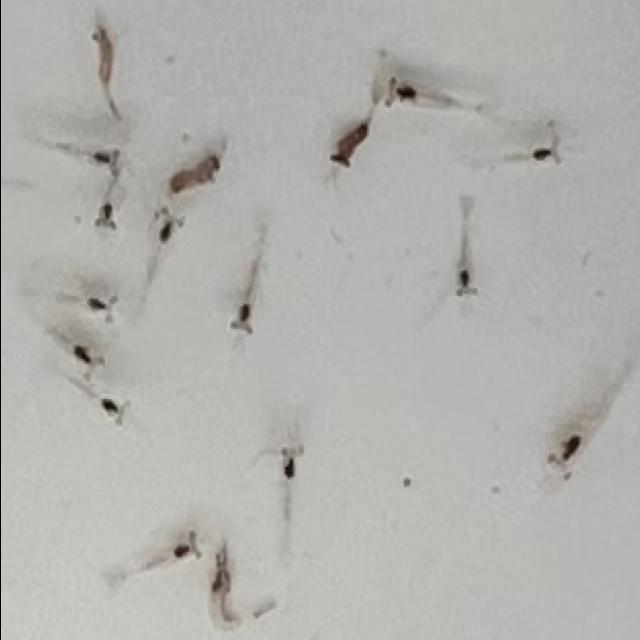shrimp-seed: (166, 154, 220, 194), (543, 433, 583, 485), (328, 119, 368, 169), (89, 28, 116, 86), (72, 340, 106, 385), (154, 203, 190, 244), (208, 544, 234, 600), (385, 72, 417, 116), (228, 298, 260, 340), (278, 442, 308, 486), (530, 132, 564, 170), (85, 291, 119, 327), (99, 394, 131, 431), (91, 197, 121, 235), (88, 146, 122, 176), (172, 531, 202, 563), (452, 262, 477, 300)
